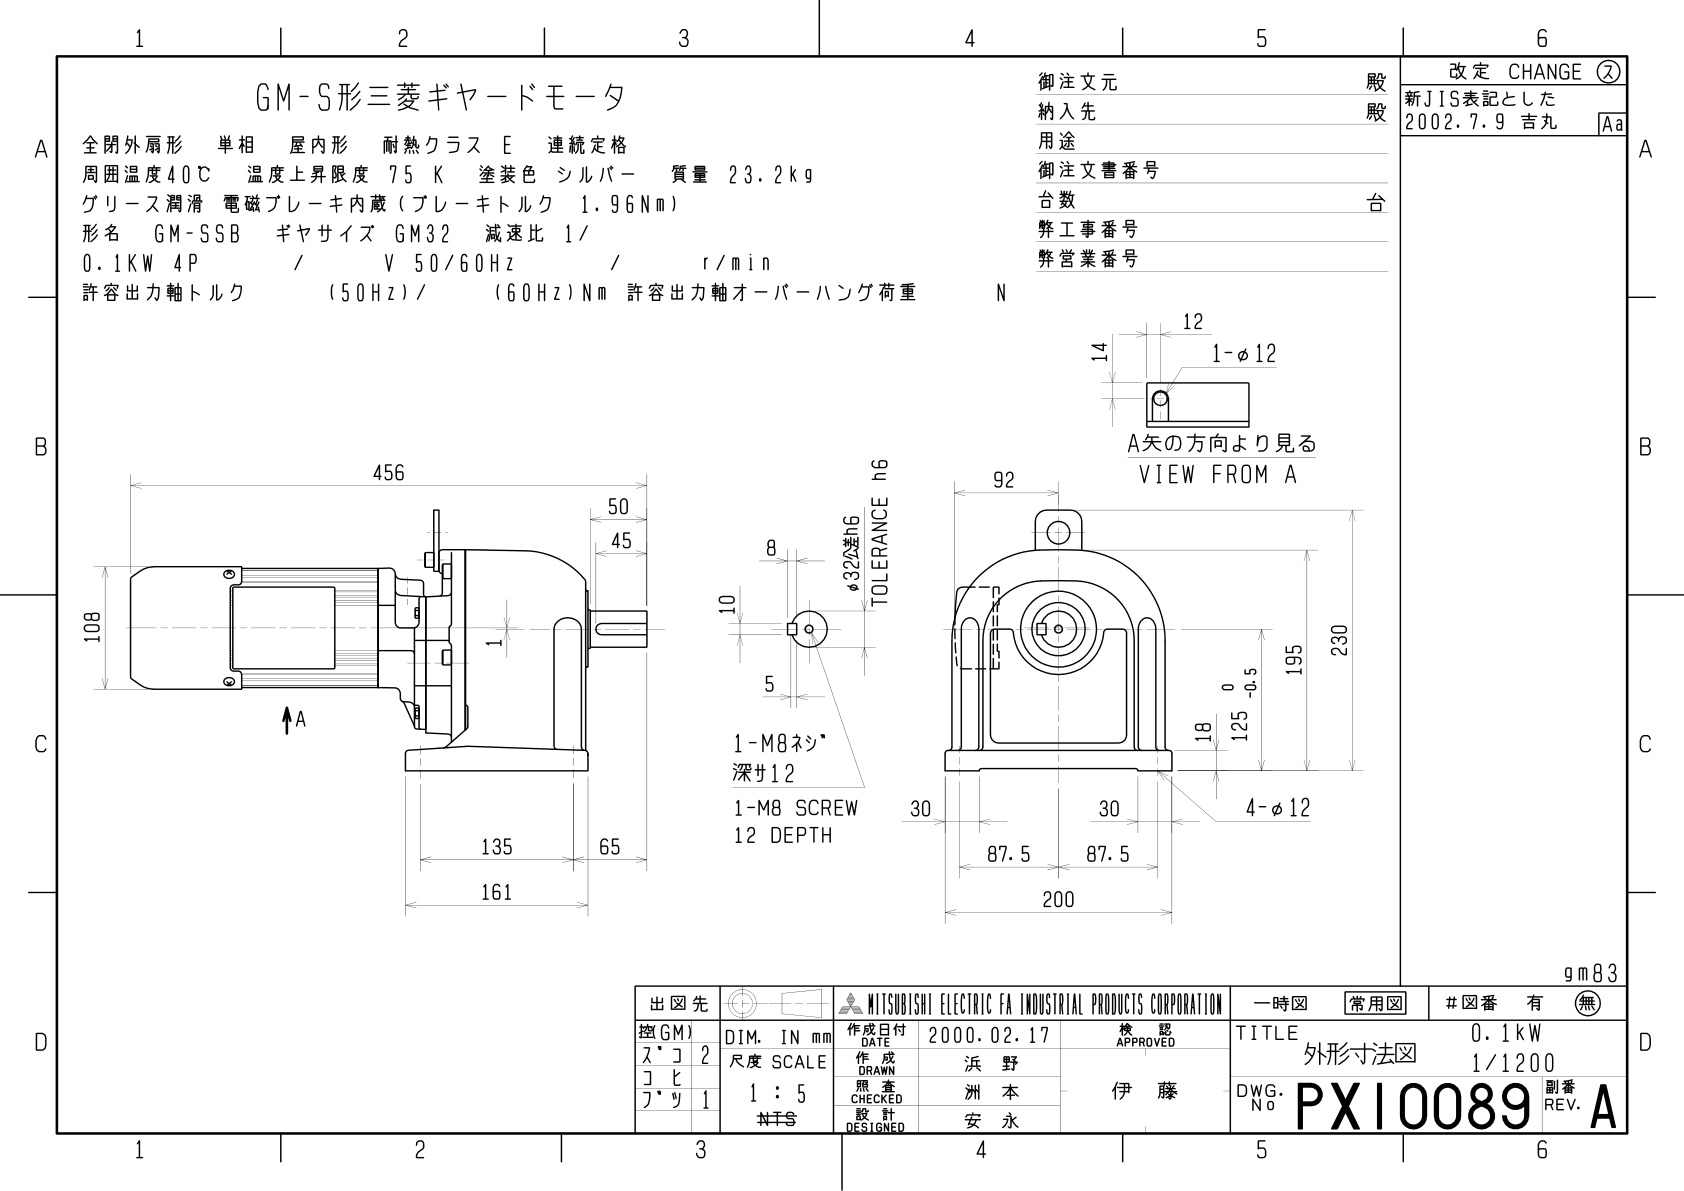GM_S_屋内＿三相_脚: (75, 302, 1379, 944)
